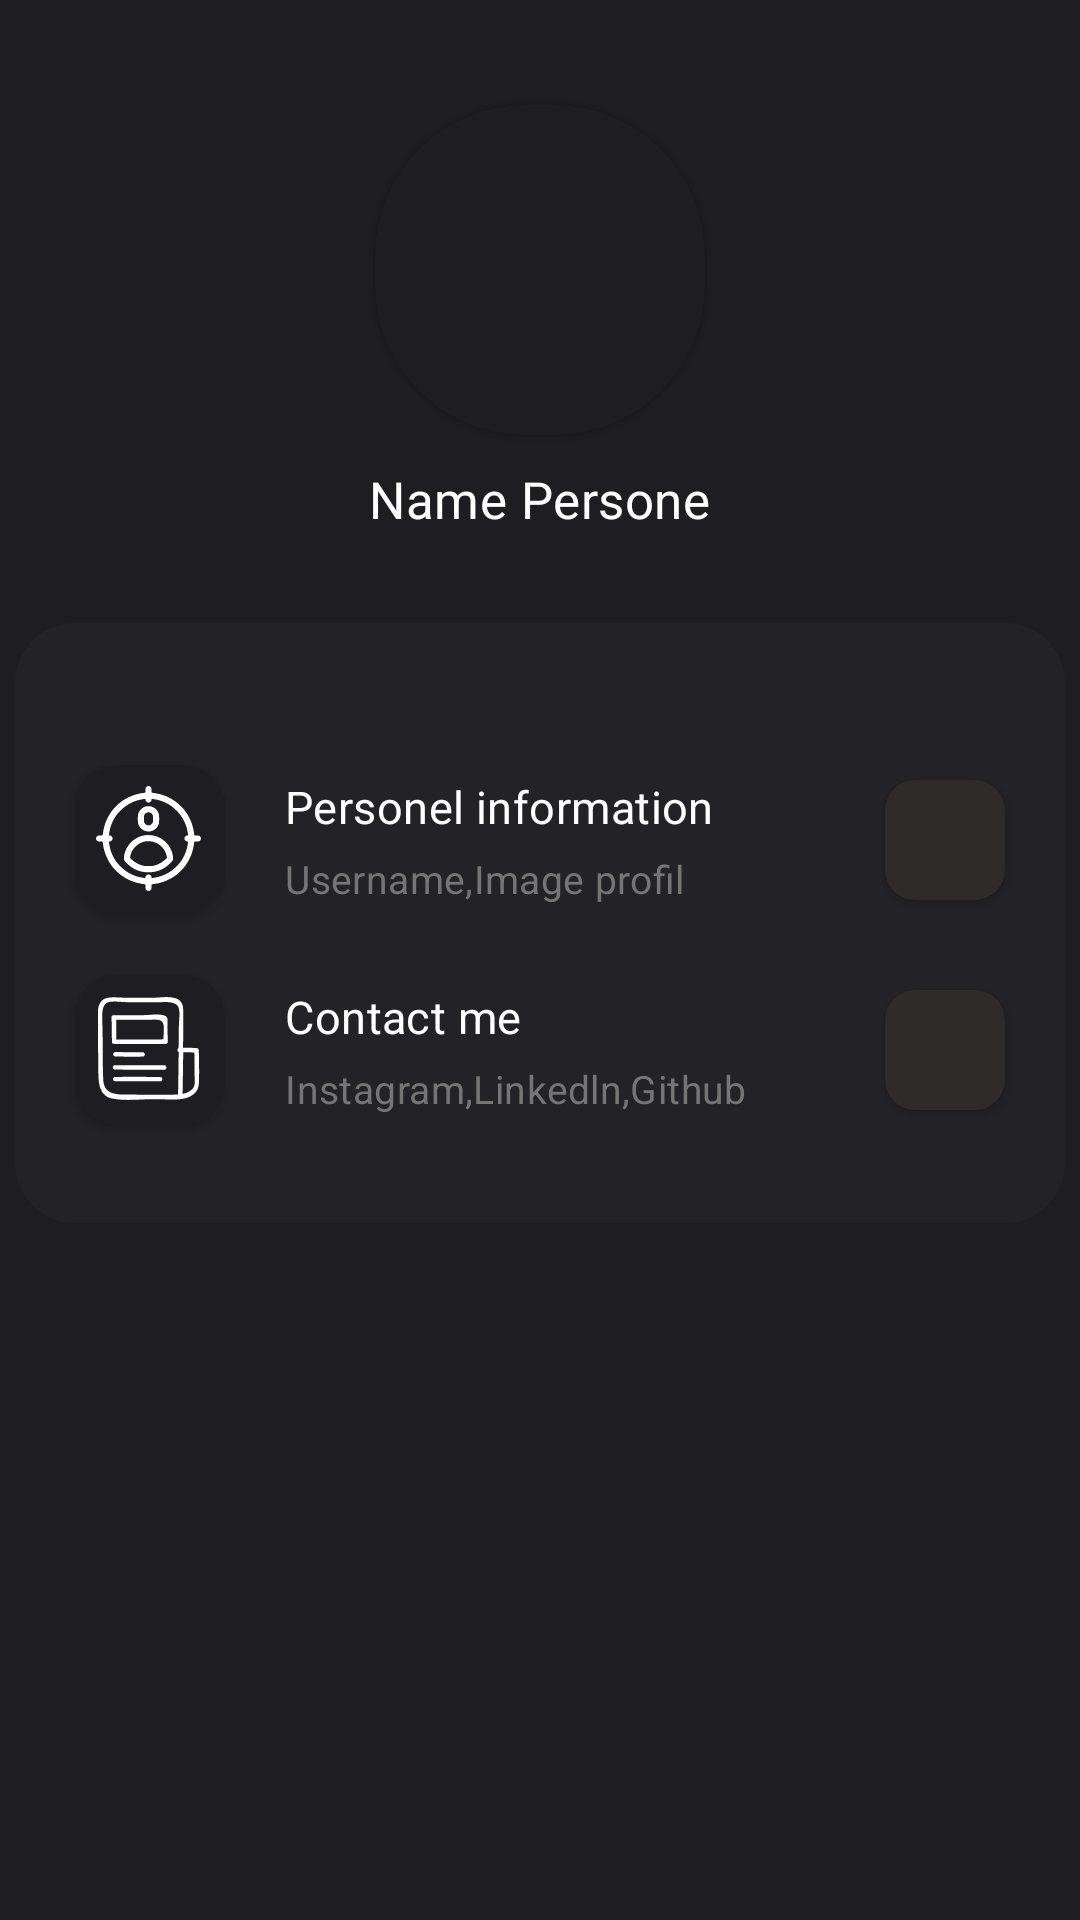

Locate icon controls on the screen. Image size 1080 × 1920, boxes as {"x1": x1, "y1": y1, "x2": x2, "y2": y2}.
audience target analysis people: {"x1": 96, "y1": 786, "x2": 201, "y2": 891}
